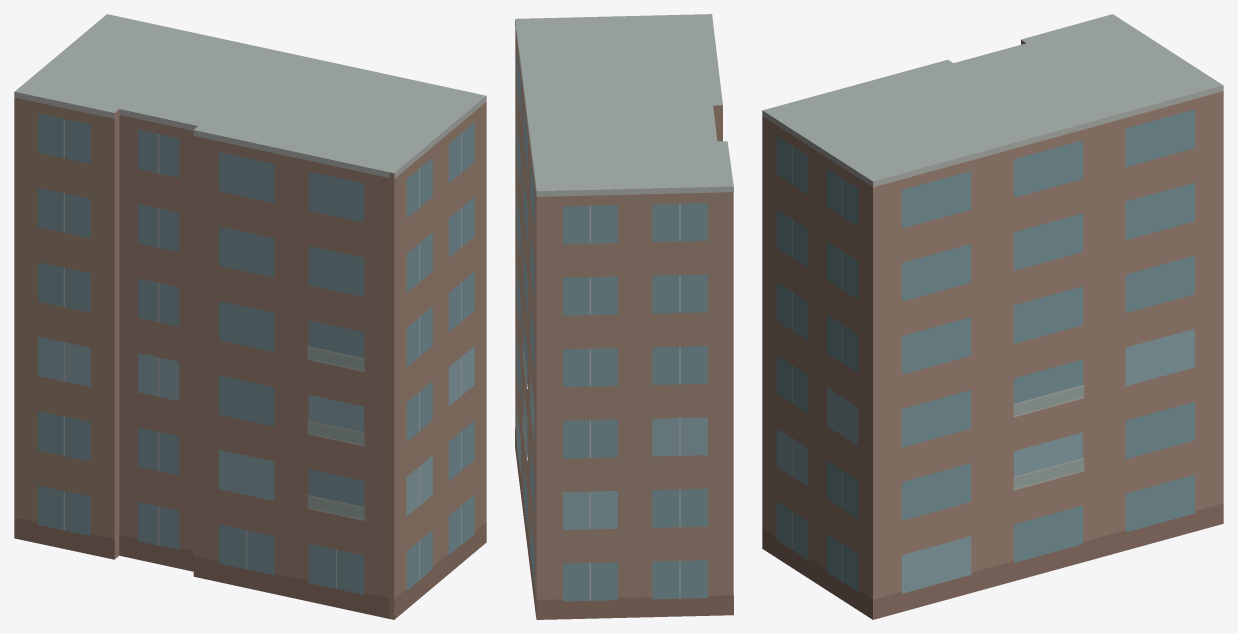
Rendered from survey-upis-32790923.glb.
3 views of the same model, side by side, from view 1: azimuth 30°, elevation 25°; view 2: azimuth 150°, elevation 25°; view 3: azimuth 270°, elevation 25° (orthographic). The views are drawn at different scales.
Visible parts, largest first — view 1: survey-upis-32790923.tmp; view 2: survey-upis-32790923.tmp; view 3: survey-upis-32790923.tmp.
Boxes of the visible parts, left/top/right/bottom form: survey-upis-32790923.tmp: left=14, top=14, right=486, bottom=619; survey-upis-32790923.tmp: left=515, top=14, right=733, bottom=619; survey-upis-32790923.tmp: left=762, top=14, right=1223, bottom=619.
Size of the model in its own units: 15.26 by 18.6 by 17.75.
